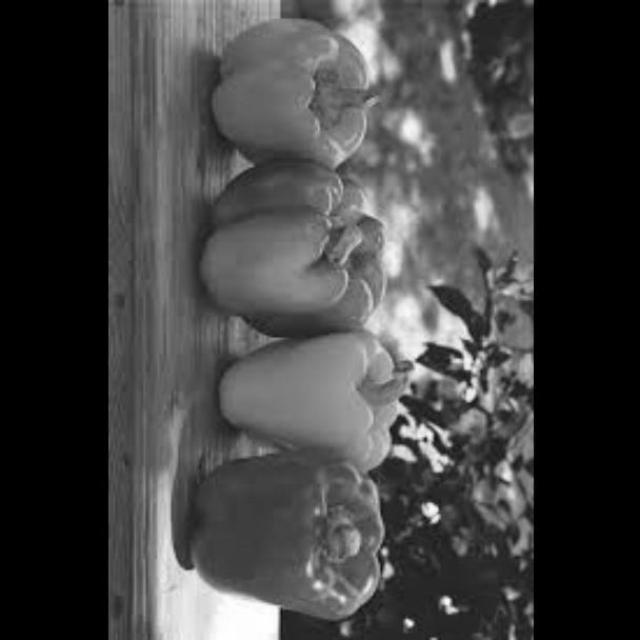bell pepper: (184, 446, 388, 623), (188, 163, 388, 332), (212, 329, 413, 468), (213, 12, 381, 165)
